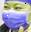with_mask: (1, 2, 31, 32)
